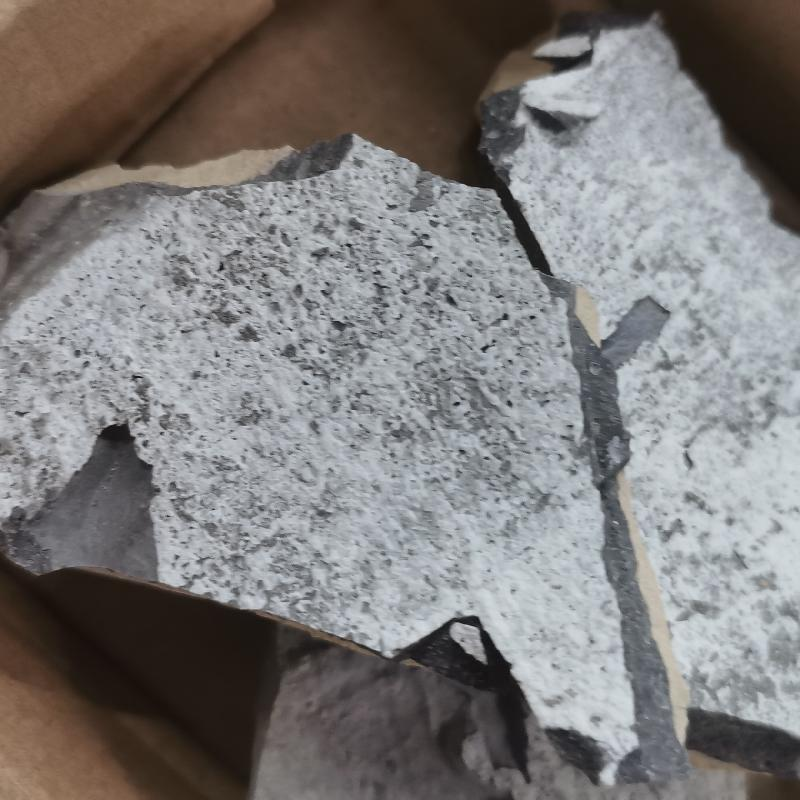tile: (14, 36, 800, 799)
